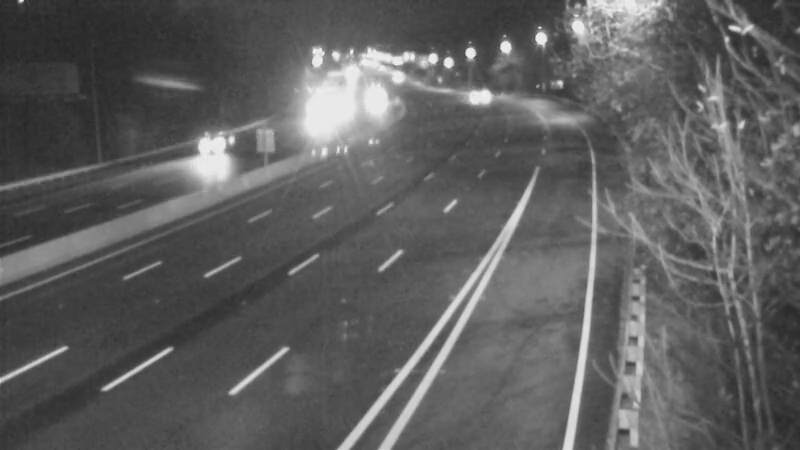vehicle: (374, 56, 424, 106), (450, 71, 500, 121), (185, 123, 235, 173), (294, 92, 344, 142), (346, 77, 396, 127)
